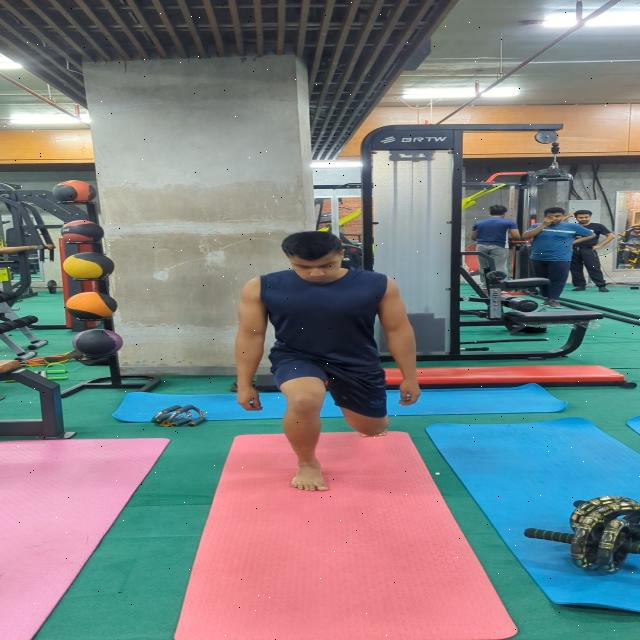Normal_Lunges: (232, 224, 426, 493)
